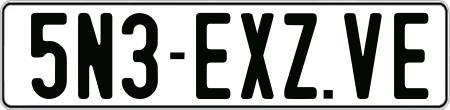3: (122, 12, 158, 100)
5: (30, 11, 66, 103)
E: (196, 12, 235, 98), (391, 10, 426, 98)
N: (75, 13, 115, 103)
V: (342, 13, 385, 101)
X: (239, 10, 276, 99)
Z: (284, 13, 319, 101)
